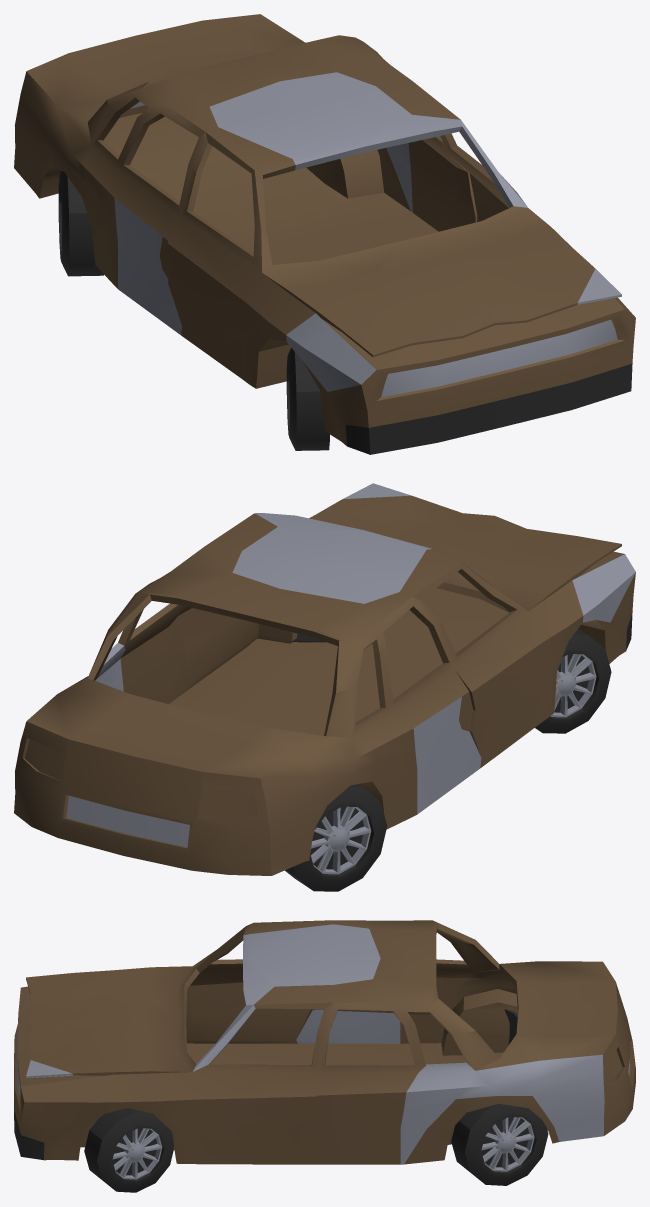
Rendered from SM_Debris_BrokenCar.fbx.
3 renders of one model, top to bottom at view 1: azimuth 30°, elevation 25°; view 2: azimuth 150°, elevation 25°; view 3: azimuth 270°, elevation 25°, orthographic. The views are drawn at different scales.
Visible parts, largest first — view 1: SM_Debris_BrokenCar; view 2: SM_Debris_BrokenCar; view 3: SM_Debris_BrokenCar.
Boxes of the visible parts, x1,y1,x2,y2 form: SM_Debris_BrokenCar: [14, 14, 635, 454]; SM_Debris_BrokenCar: [14, 483, 635, 891]; SM_Debris_BrokenCar: [14, 920, 635, 1192].
Size of the model in its own units: 2.64 by 1.76 by 5.49.
